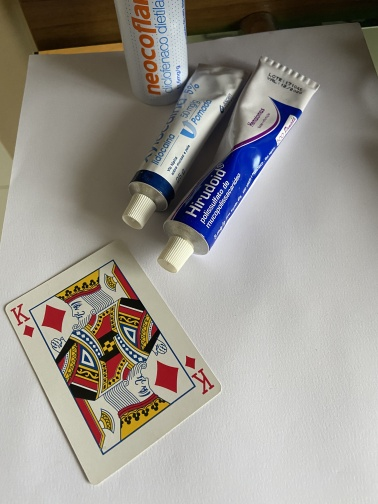king: (2, 236, 224, 485)
